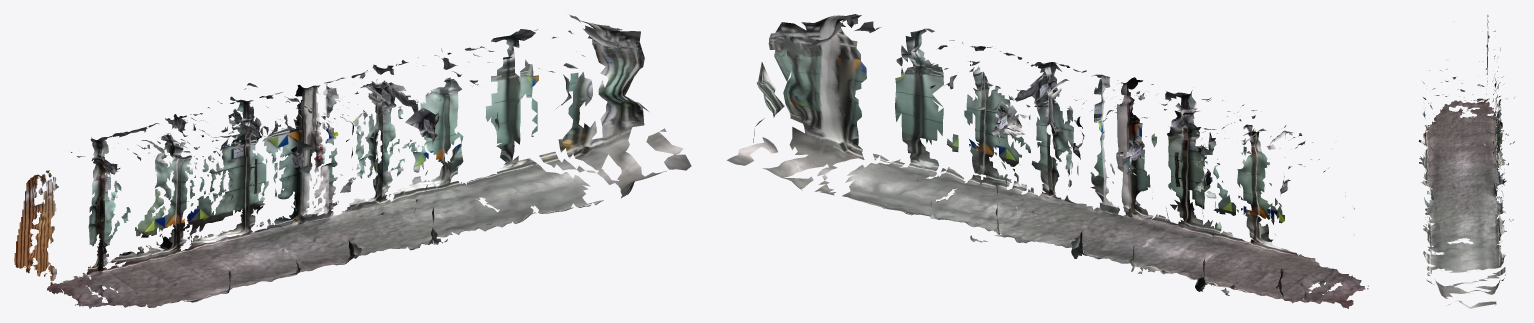
Rendered from 138715-Front2-tex.glb.
3 views of the same model, side by side, from view 1: azimuth 30°, elevation 25°; view 2: azimuth 150°, elevation 25°; view 3: azimuth 270°, elevation 25° (orthographic). The views are drawn at different scales.
Parts seen in each view (by area): view 1: Node; view 2: Node; view 3: Node.
Boxes of the visible parts, <box> form: Node: <box>14,14,691,308</box>; Node: <box>727,14,1368,308</box>; Node: <box>1418,15,1514,308</box>.
Size of the model in its own units: 12.96 by 3 by 2.72.
Materials: 9 (9 with a texture image).
